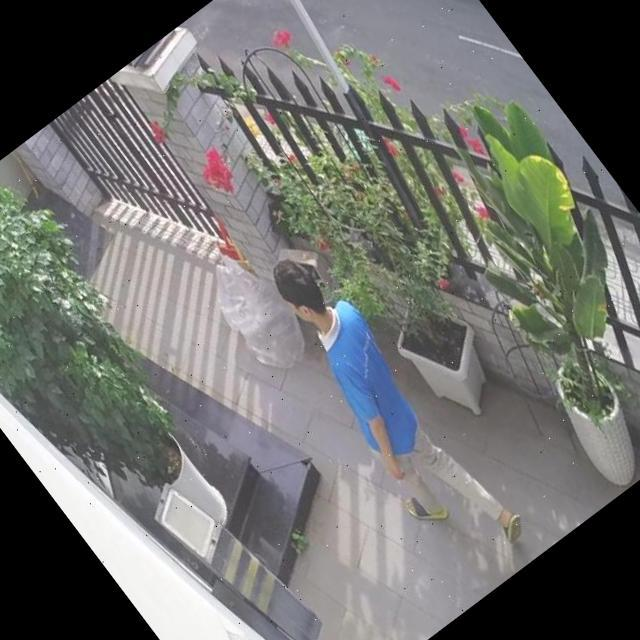person: (237, 237, 529, 587)
